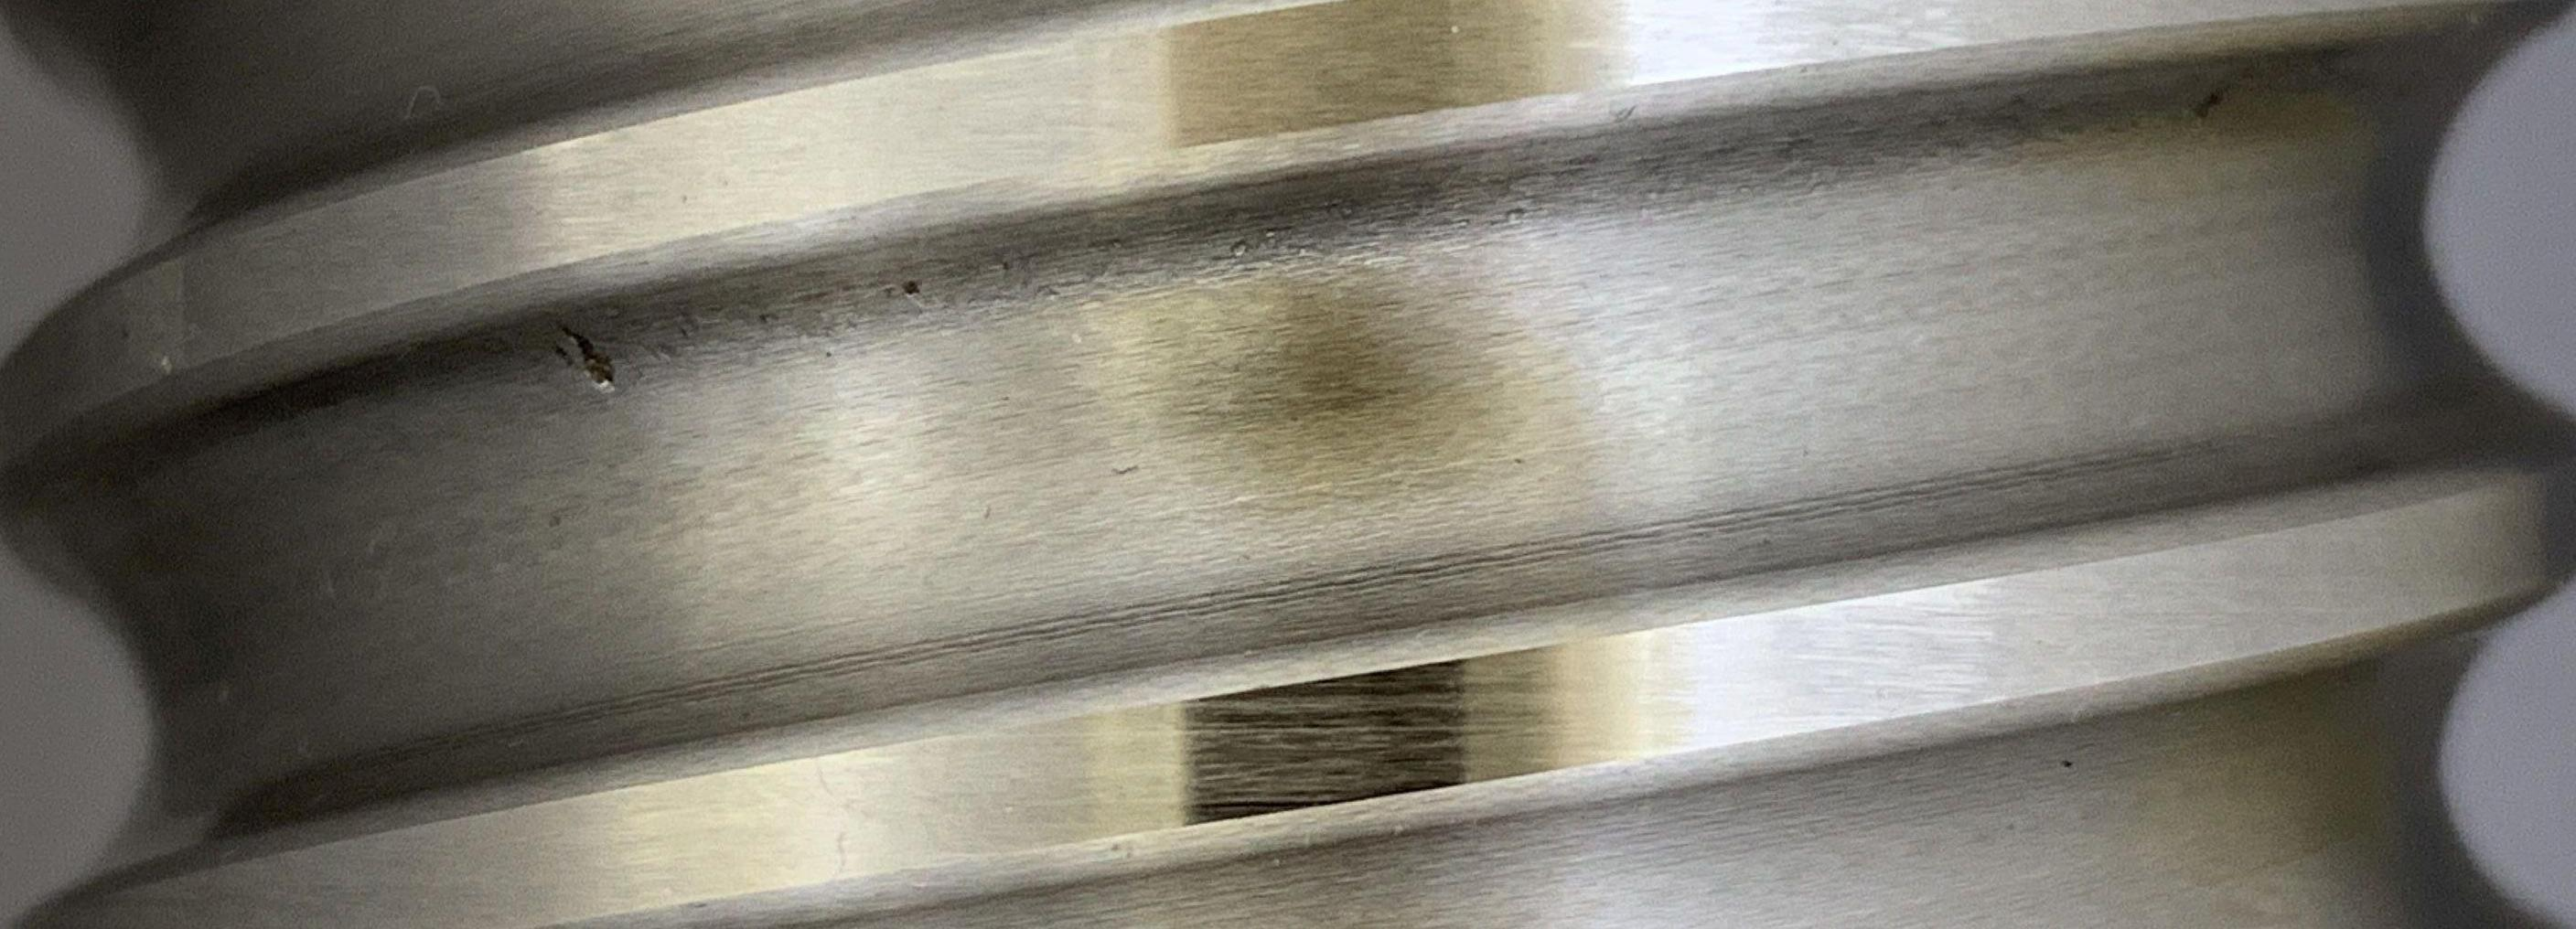pitting: (552, 327, 614, 387), (2193, 94, 2221, 118), (900, 281, 918, 295)
